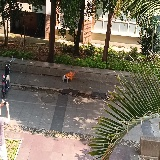fire: (65, 71, 75, 80)
